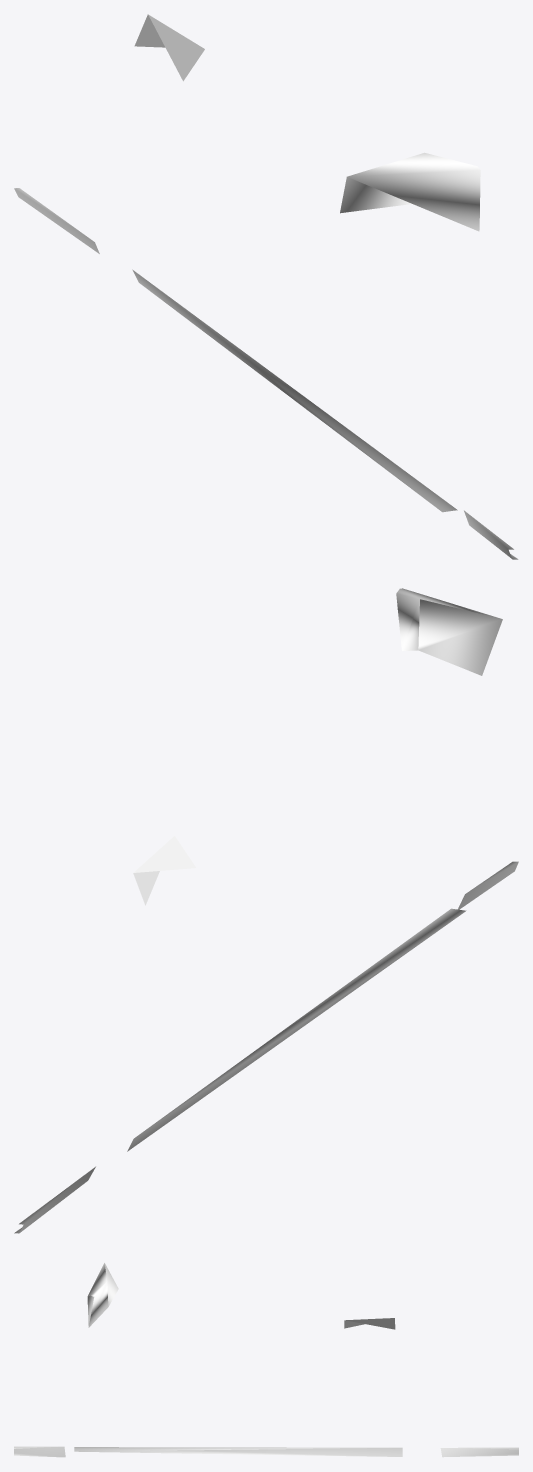
3 views of the same model, one above another, from view 1: azimuth 30°, elevation 25°; view 2: azimuth 150°, elevation 25°; view 3: azimuth 270°, elevation 25° (orthographic). The views are drawn at different scales.
Size of the model in its own units: 0.1593 by 0.4471 by 1.17.
Materials: 1 (1 with a texture image).
